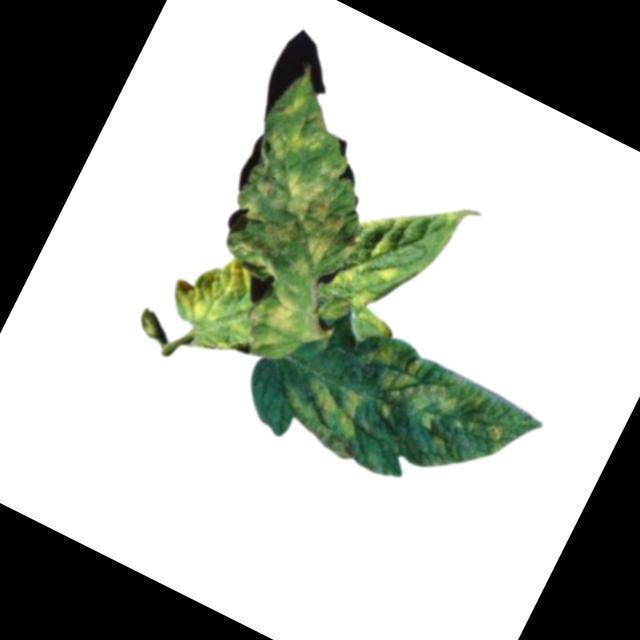Leaf_Mold: (203, 67, 408, 301), (340, 327, 535, 475), (323, 168, 465, 331), (154, 238, 280, 366), (269, 360, 381, 465), (240, 277, 322, 371)
